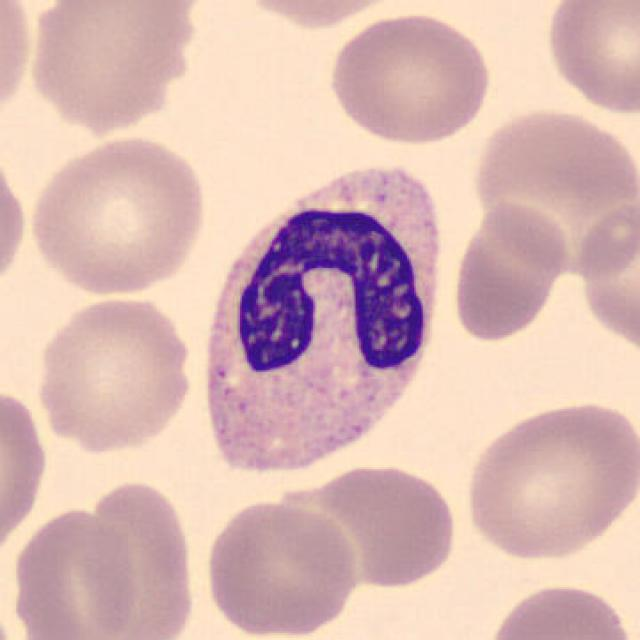Neutrophil: (187, 155, 453, 497)
RBC: (23, 132, 212, 300), (459, 395, 638, 562), (31, 293, 198, 457), (23, 2, 213, 136), (324, 7, 496, 148), (468, 102, 636, 244), (199, 496, 365, 638), (292, 458, 462, 590), (73, 474, 201, 638), (446, 198, 574, 346), (9, 502, 144, 640), (540, 0, 640, 118), (572, 198, 638, 360), (482, 578, 638, 640), (0, 381, 52, 564), (229, 0, 409, 32), (0, 139, 30, 296), (0, 0, 35, 130)
